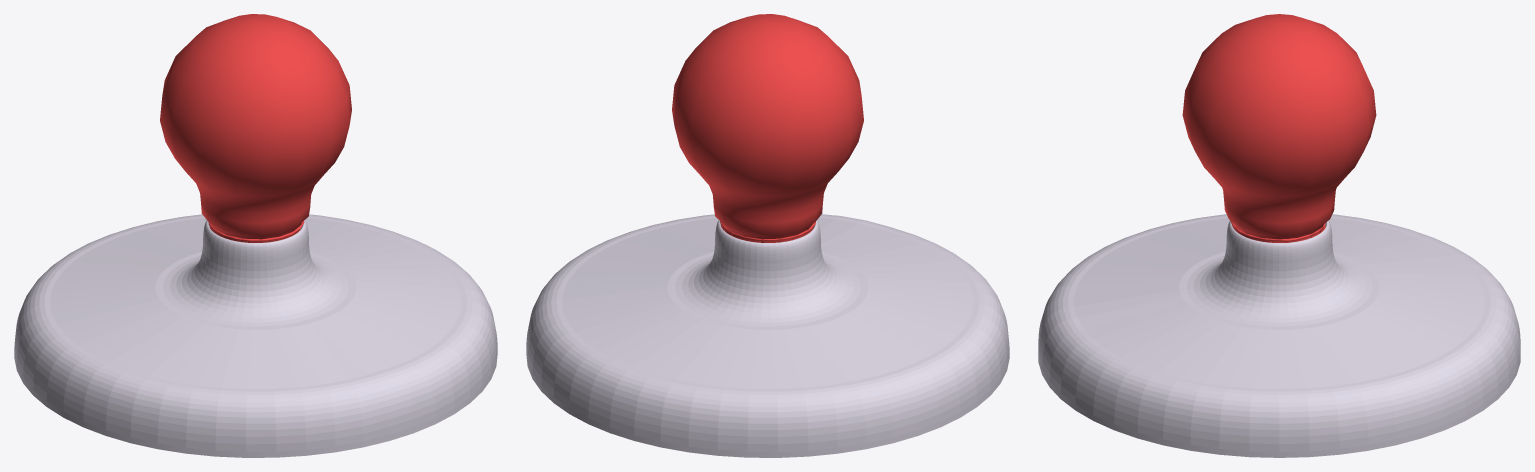
File: BasicLight.FBX
3 renders of one model, left to right at view 1: azimuth 30°, elevation 25°; view 2: azimuth 150°, elevation 25°; view 3: azimuth 270°, elevation 25°, orthographic.
Visible parts, largest first — view 1: Cylinder001, Bulb; view 2: Cylinder001, Bulb; view 3: Cylinder001, Bulb.
Part boxes in pixels (<box>): Cylinder001: <box>14,214,497,457</box>; Bulb: <box>160,14,351,242</box>; Cylinder001: <box>526,214,1009,457</box>; Bulb: <box>672,14,863,242</box>; Cylinder001: <box>1038,214,1520,457</box>; Bulb: <box>1182,14,1376,242</box>.
Bounding box in the file's own units: 11.14 × 8.47 × 11.12.
